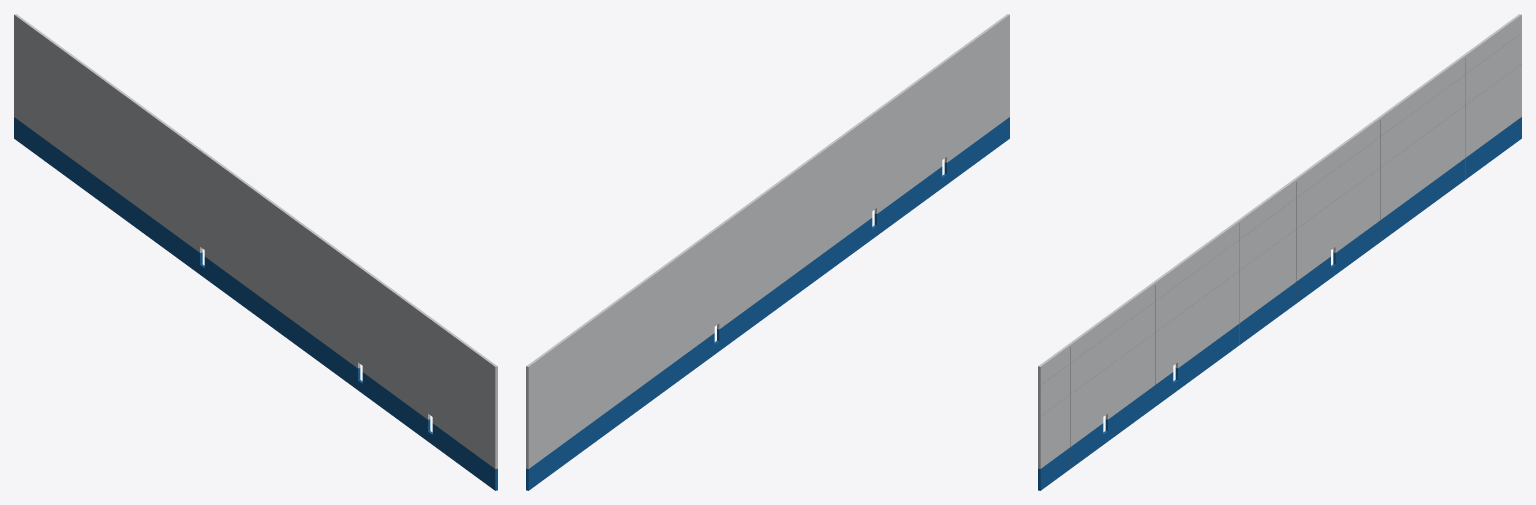
Rendered from SM_MPR_CAD_Facade_05_20261112.fbx.
3 views of the same model, side by side, from view 1: azimuth 30°, elevation 25°; view 2: azimuth 150°, elevation 25°; view 3: azimuth 330°, elevation 25° (orthographic).
Parts seen in each view (by area): view 1: SM_MPR_CAD_Facade_05_20261112; view 2: SM_MPR_CAD_Facade_05_20261112; view 3: SM_MPR_CAD_Facade_05_20261112.
Boxes of the visible parts, <box> form: SM_MPR_CAD_Facade_05_20261112: <box>14,14,497,490</box>; SM_MPR_CAD_Facade_05_20261112: <box>526,14,1009,490</box>; SM_MPR_CAD_Facade_05_20261112: <box>1038,14,1521,490</box>.
Size of the model in its own units: 31.44 by 10409 by 1480.
